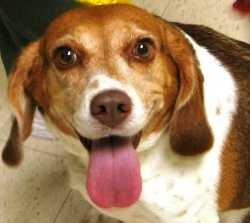Dog: (2, 4, 222, 222)
